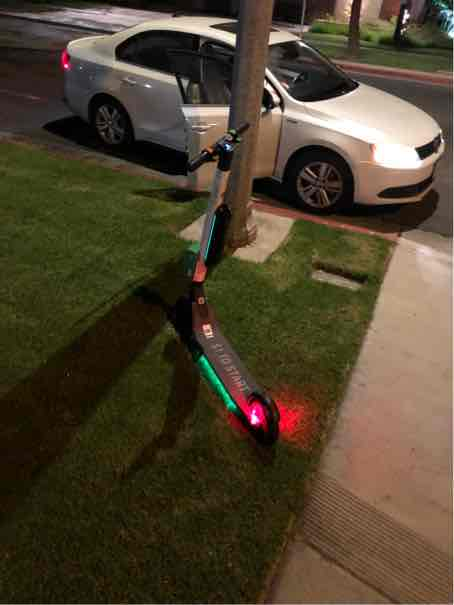scooter: (159, 130, 302, 462)
